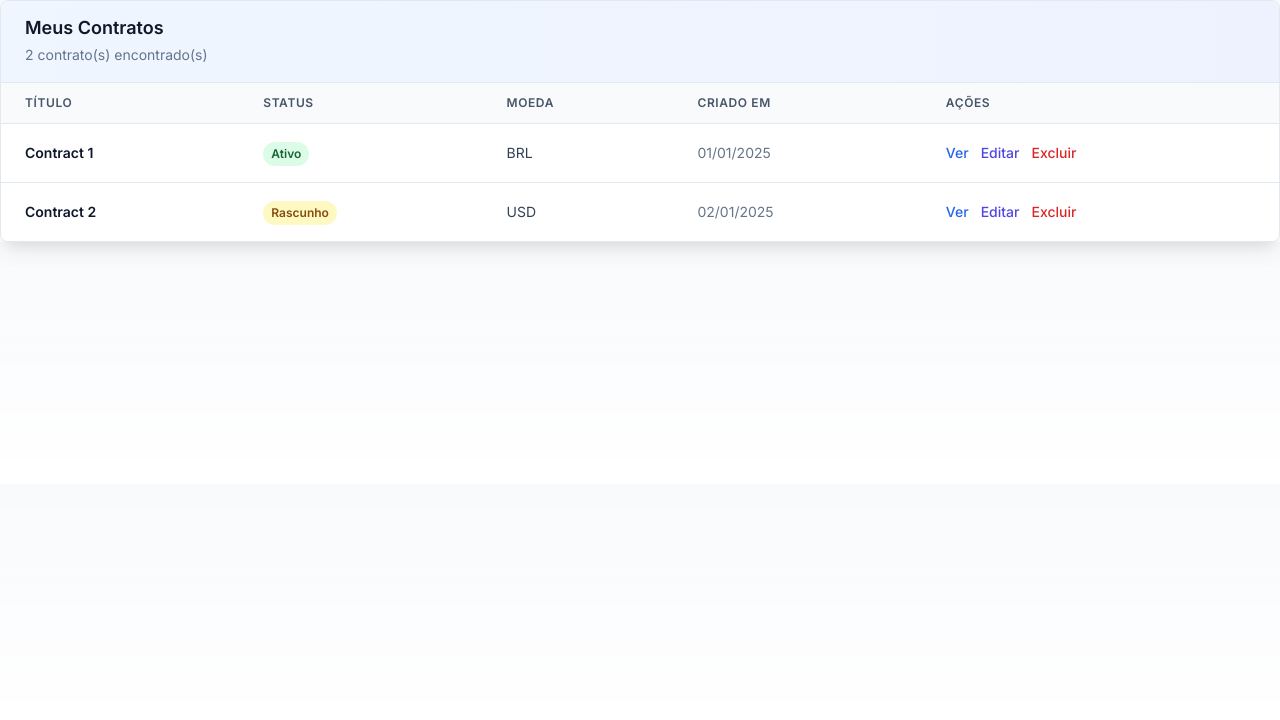
Test case: ContractList › cancels delete when cancel button is clicked
Click the button "Excluir" in the row of "Contract 1" at x=1054, y=153, box [1032, 143, 1076, 163]
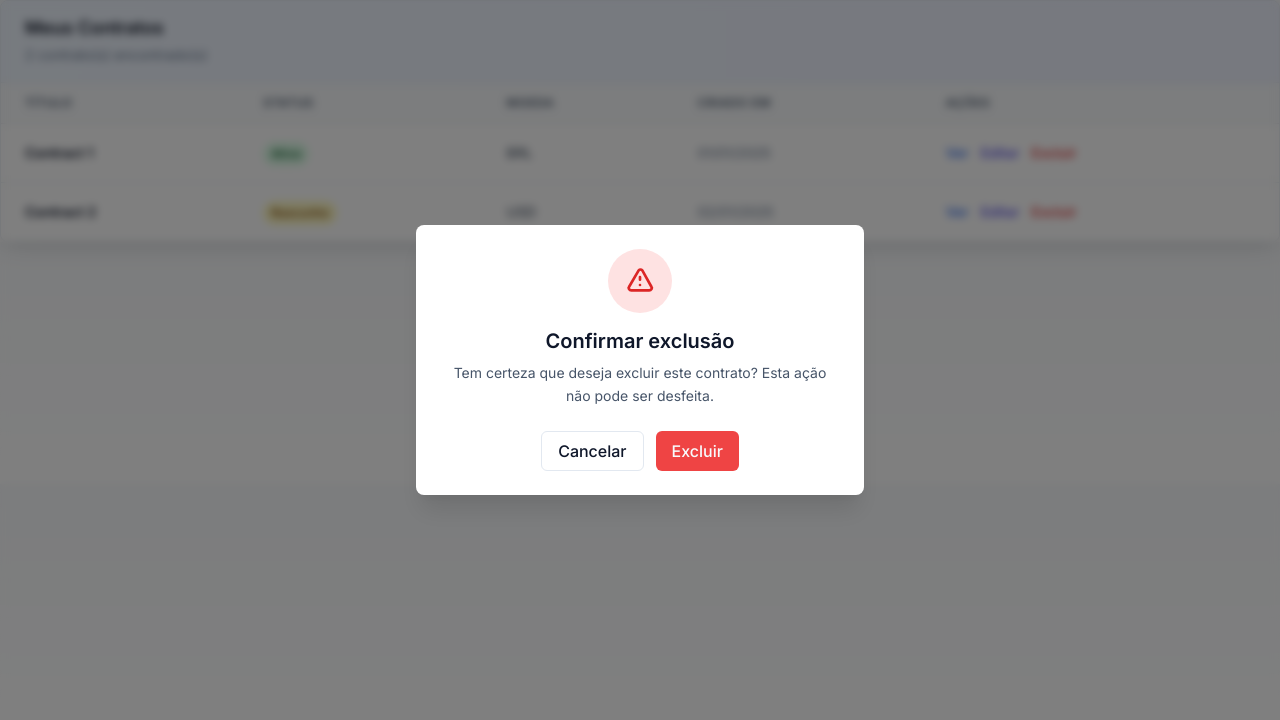
Click the button "Cancelar" at x=592, y=451, box [541, 431, 644, 471]
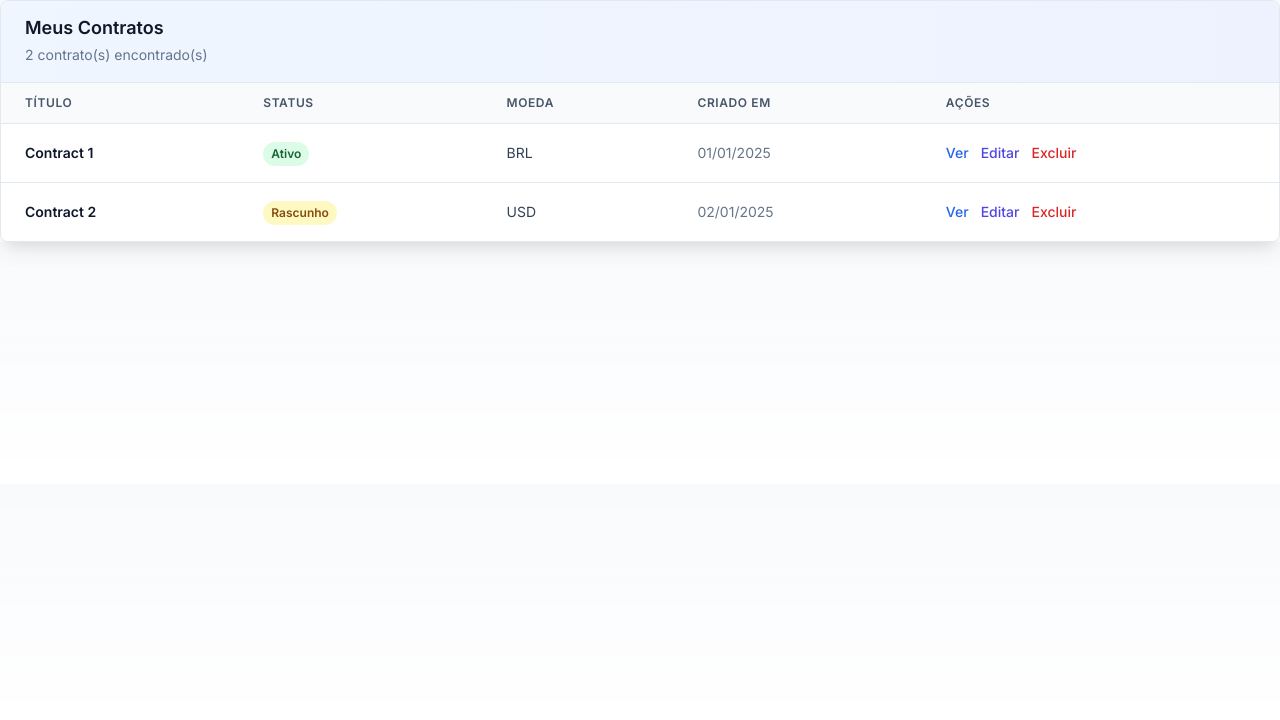
Result: the heading "Confirmar exclusão" is gone
